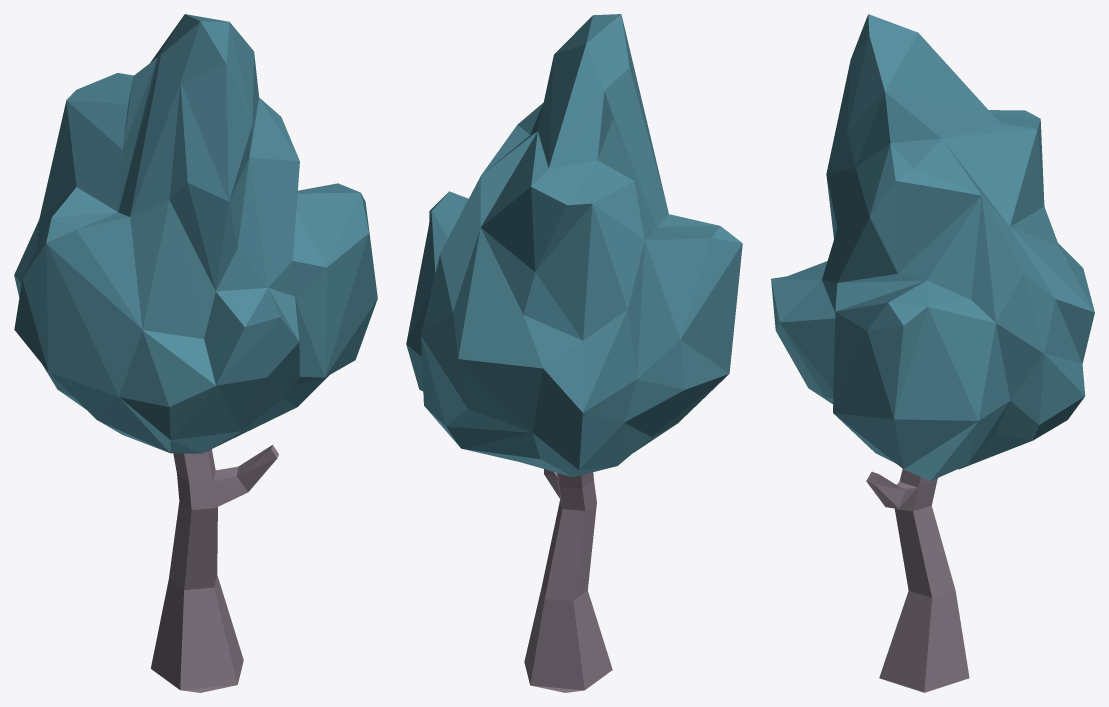
Rendered from SM_Env_Tree_Plum_01.fbx.
3 renders of one model, left to right at view 1: azimuth 30°, elevation 25°; view 2: azimuth 150°, elevation 25°; view 3: azimuth 270°, elevation 25°, orthographic. The views are drawn at different scales.
Parts seen in each view (by area): view 1: SM_Generic_Tree_03; view 2: SM_Generic_Tree_03; view 3: SM_Generic_Tree_03.
Boxes of the visible parts, box(x1,y1,x2,y2) form: SM_Generic_Tree_03: box(14, 14, 377, 692); SM_Generic_Tree_03: box(406, 14, 742, 692); SM_Generic_Tree_03: box(771, 14, 1094, 692).
Size of the model in its own units: 1.73 by 3.49 by 1.54.
Materials: 1 (1 with a texture image).
